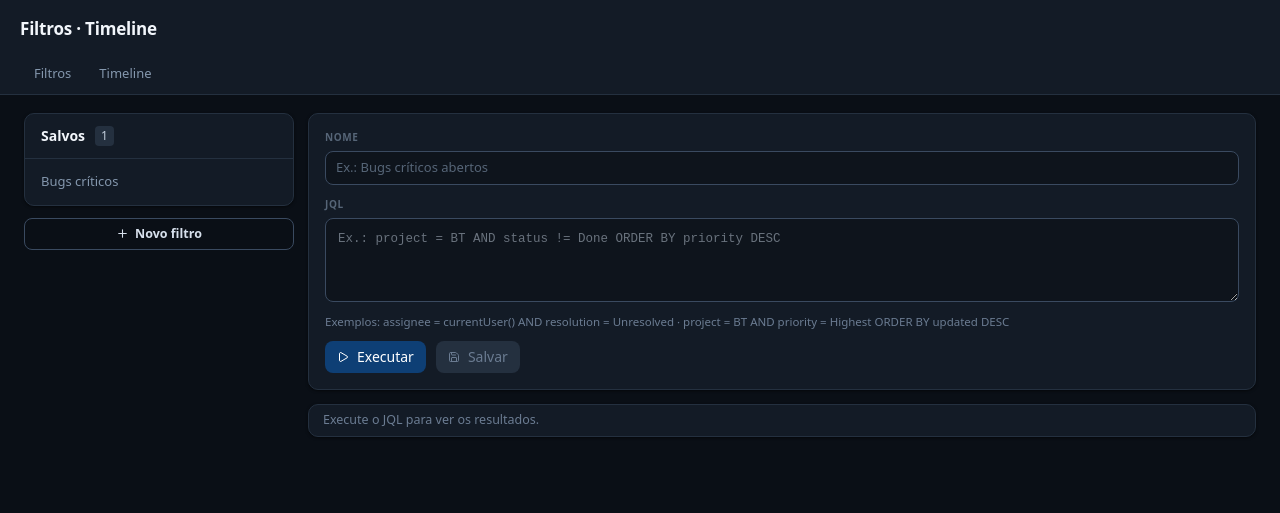
Scenario: Filters › carrega um filtro salvo, roda o JQL e mostra resultados
The width and height of the screenshot is (1280, 513).
What coordinates should you click on to do the following:
click the button "Bugs críticos"
I would click on:
 (159, 182)
Its box is [41,172,277,192].
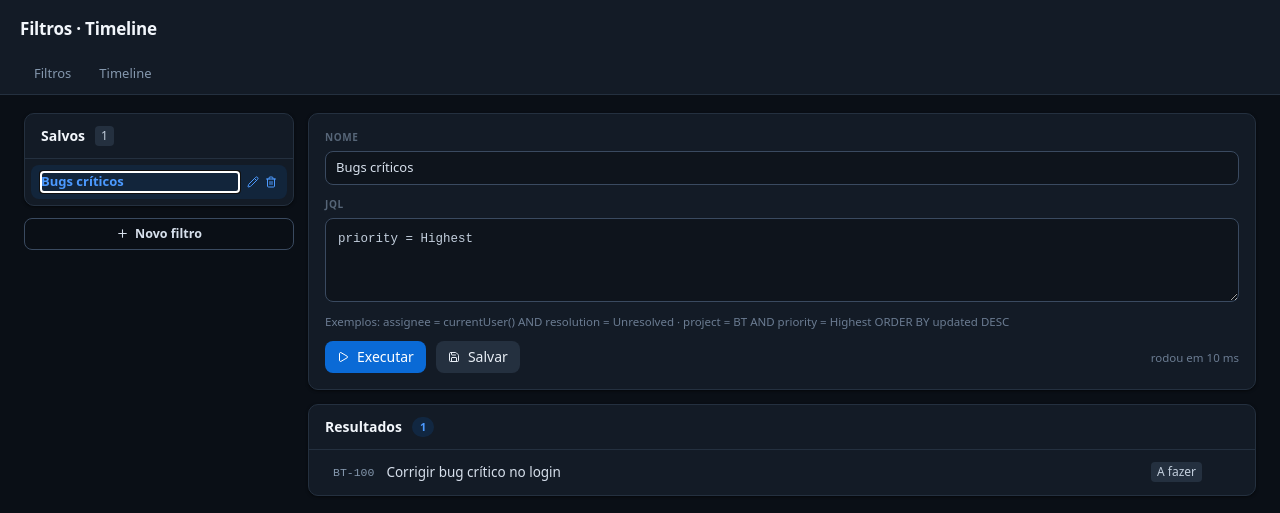
Result: the field with placeholder "Ex.: Bugs críticos abertos" holds "Bugs críticos" at [325,151,1239,184]
Result: the text box holds "priority = Highest" at [325,218,1239,302]
Result: the text "1" next to "Resultados" is shown at [420,420,426,434]
